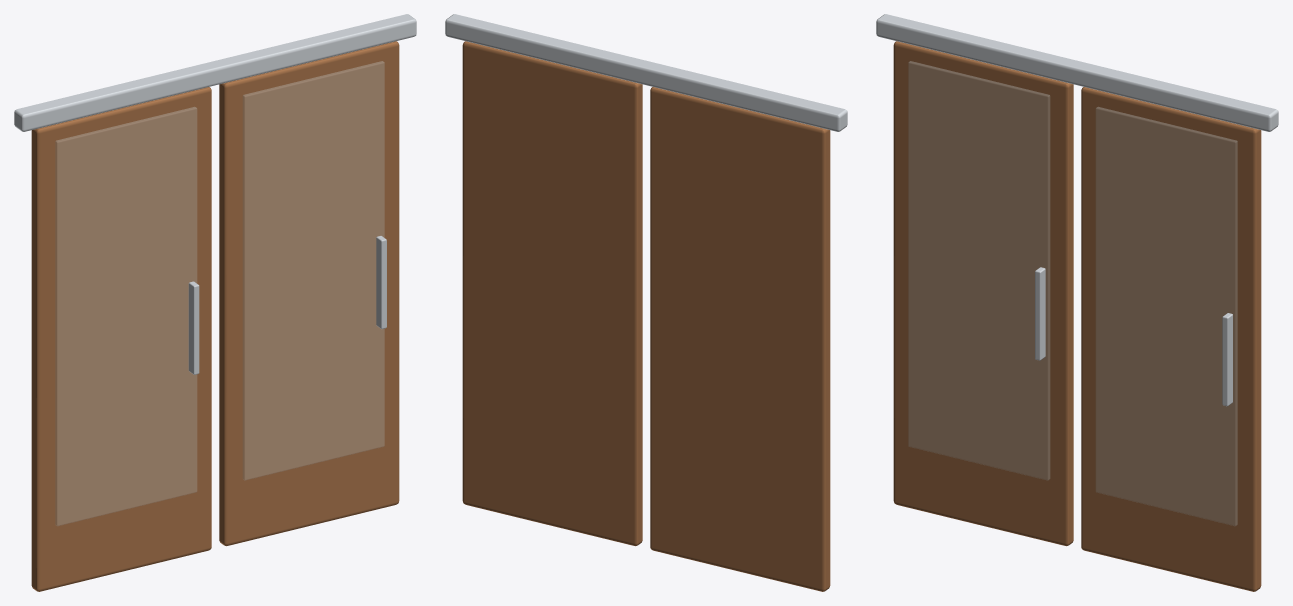
Rendered from wp-porte-coulissante.glb.
3 views of the same model, side by side, from view 1: azimuth 30°, elevation 25°; view 2: azimuth 150°, elevation 25°; view 3: azimuth 330°, elevation 25° (orthographic).
Parts seen in each view (by area): view 1: wp-porte-coulissante; view 2: wp-porte-coulissante; view 3: wp-porte-coulissante.
Part boxes in pixels (x1=…): wp-porte-coulissante: x1=14, y1=14, x2=416, y2=591; wp-porte-coulissante: x1=445, y1=14, x2=847, y2=591; wp-porte-coulissante: x1=876, y1=14, x2=1278, y2=591.
Size of the model in its own units: 1.8 by 2.1 by 0.12.
